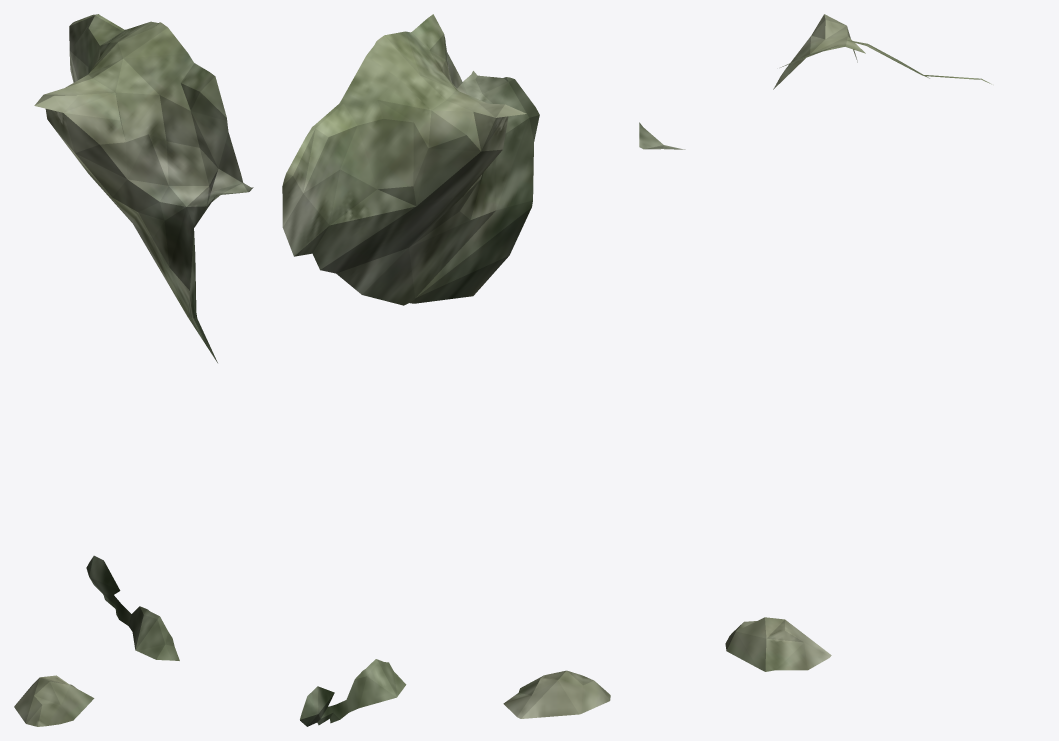
3 renders of one model, left to right at view 1: azimuth 30°, elevation 25°; view 2: azimuth 150°, elevation 25°; view 3: azimuth 270°, elevation 25°, orthographic. The views are drawn at different scales.
Bounding box in the file's own units: 0.8581 × 2.85 × 1.52.
Materials: 1 (1 with a texture image).
